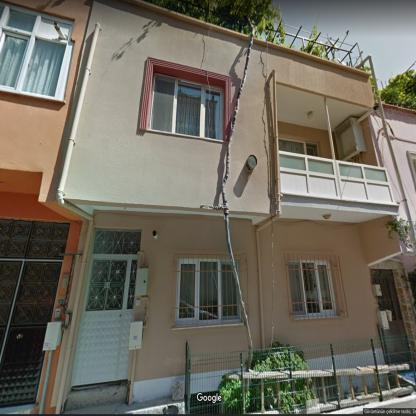door: (2, 221, 68, 406), (71, 231, 140, 386), (372, 270, 412, 362)
window: (1, 3, 73, 98), (150, 74, 222, 138), (177, 260, 240, 326), (288, 261, 337, 318), (278, 139, 318, 156)
